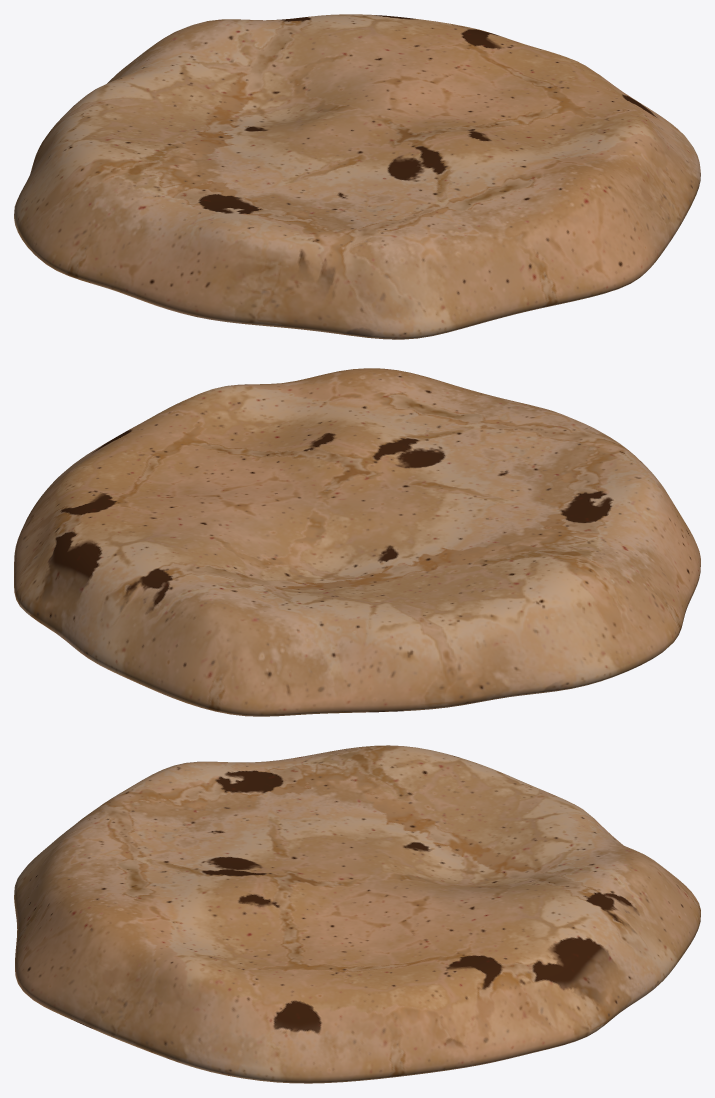
3 renders of one model, top to bottom at view 1: azimuth 30°, elevation 25°; view 2: azimuth 150°, elevation 25°; view 3: azimuth 270°, elevation 25°, orthographic. The views are drawn at different scales.
Visible parts, largest first — view 1: Cylinder; view 2: Cylinder; view 3: Cylinder.
Part boxes in pixels (x1,y1,x2,y2): Cylinder: [14, 14, 700, 339]; Cylinder: [14, 368, 700, 716]; Cylinder: [14, 745, 700, 1083].
Size of the model in its own units: 1 by 0.1335 by 0.9722.
Materials: 1 (1 with a texture image).
